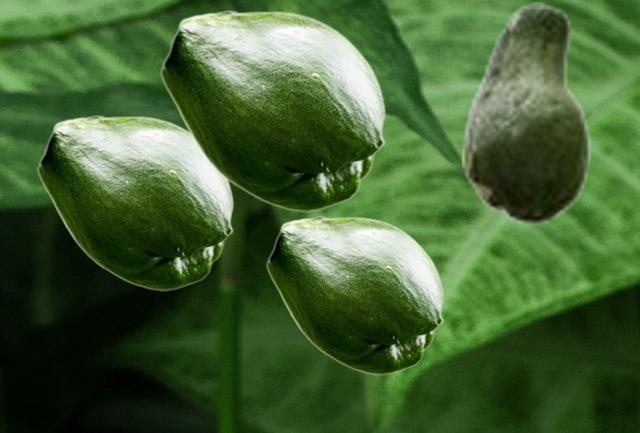sayote: (160, 10, 385, 211), (37, 115, 233, 290), (462, 2, 589, 225), (266, 216, 443, 374)
